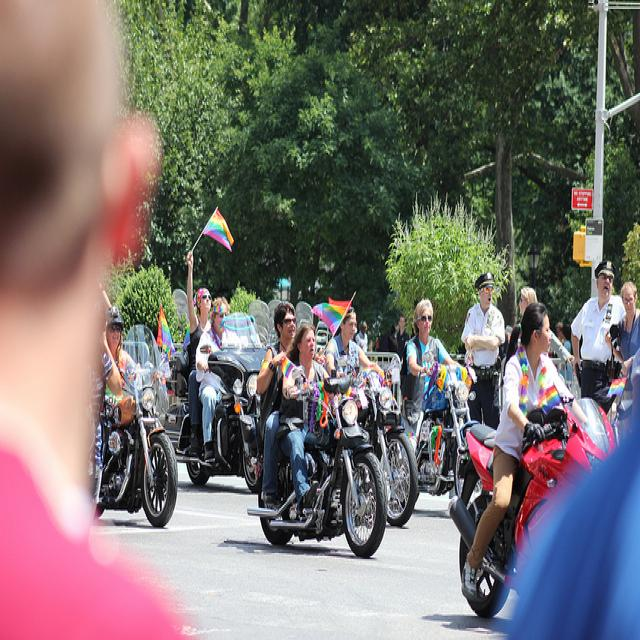motor: (442, 390, 615, 621), (229, 374, 389, 560), (175, 341, 266, 488), (94, 377, 178, 527), (358, 376, 418, 525), (415, 366, 474, 494)
